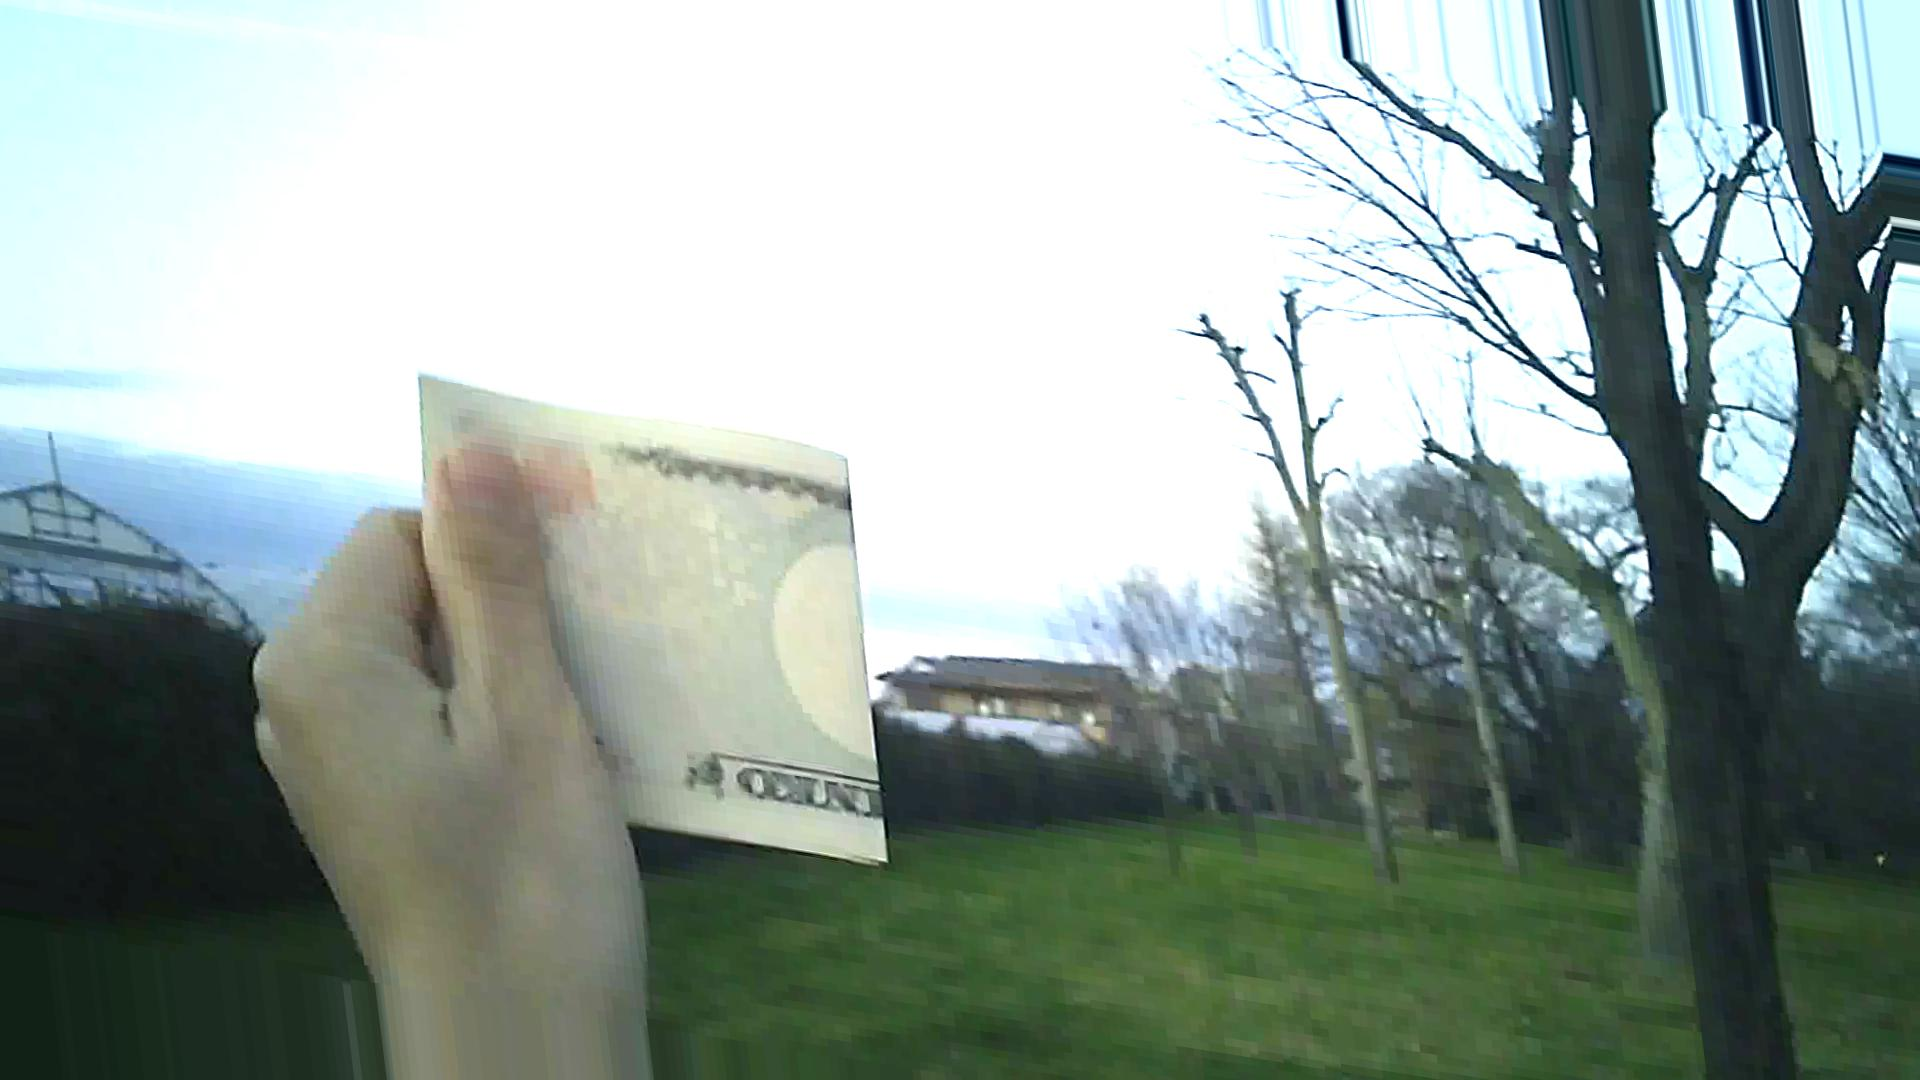10,000 Yen: (386, 343, 934, 874)
